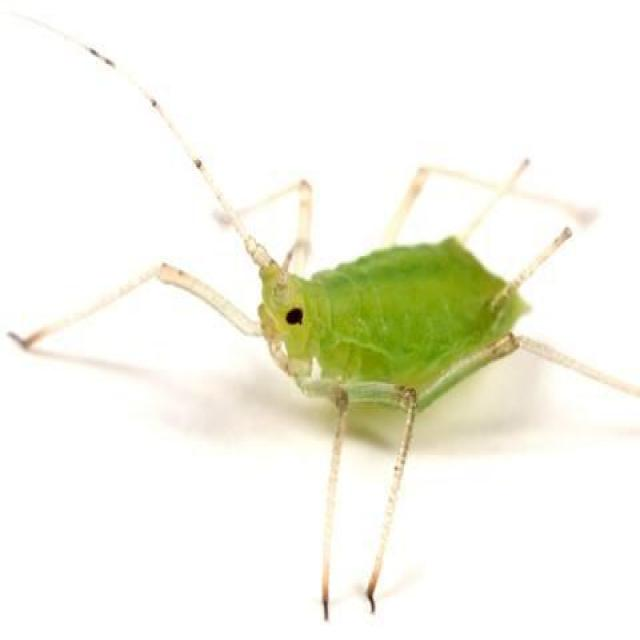Aphids: (33, 43, 624, 615)
